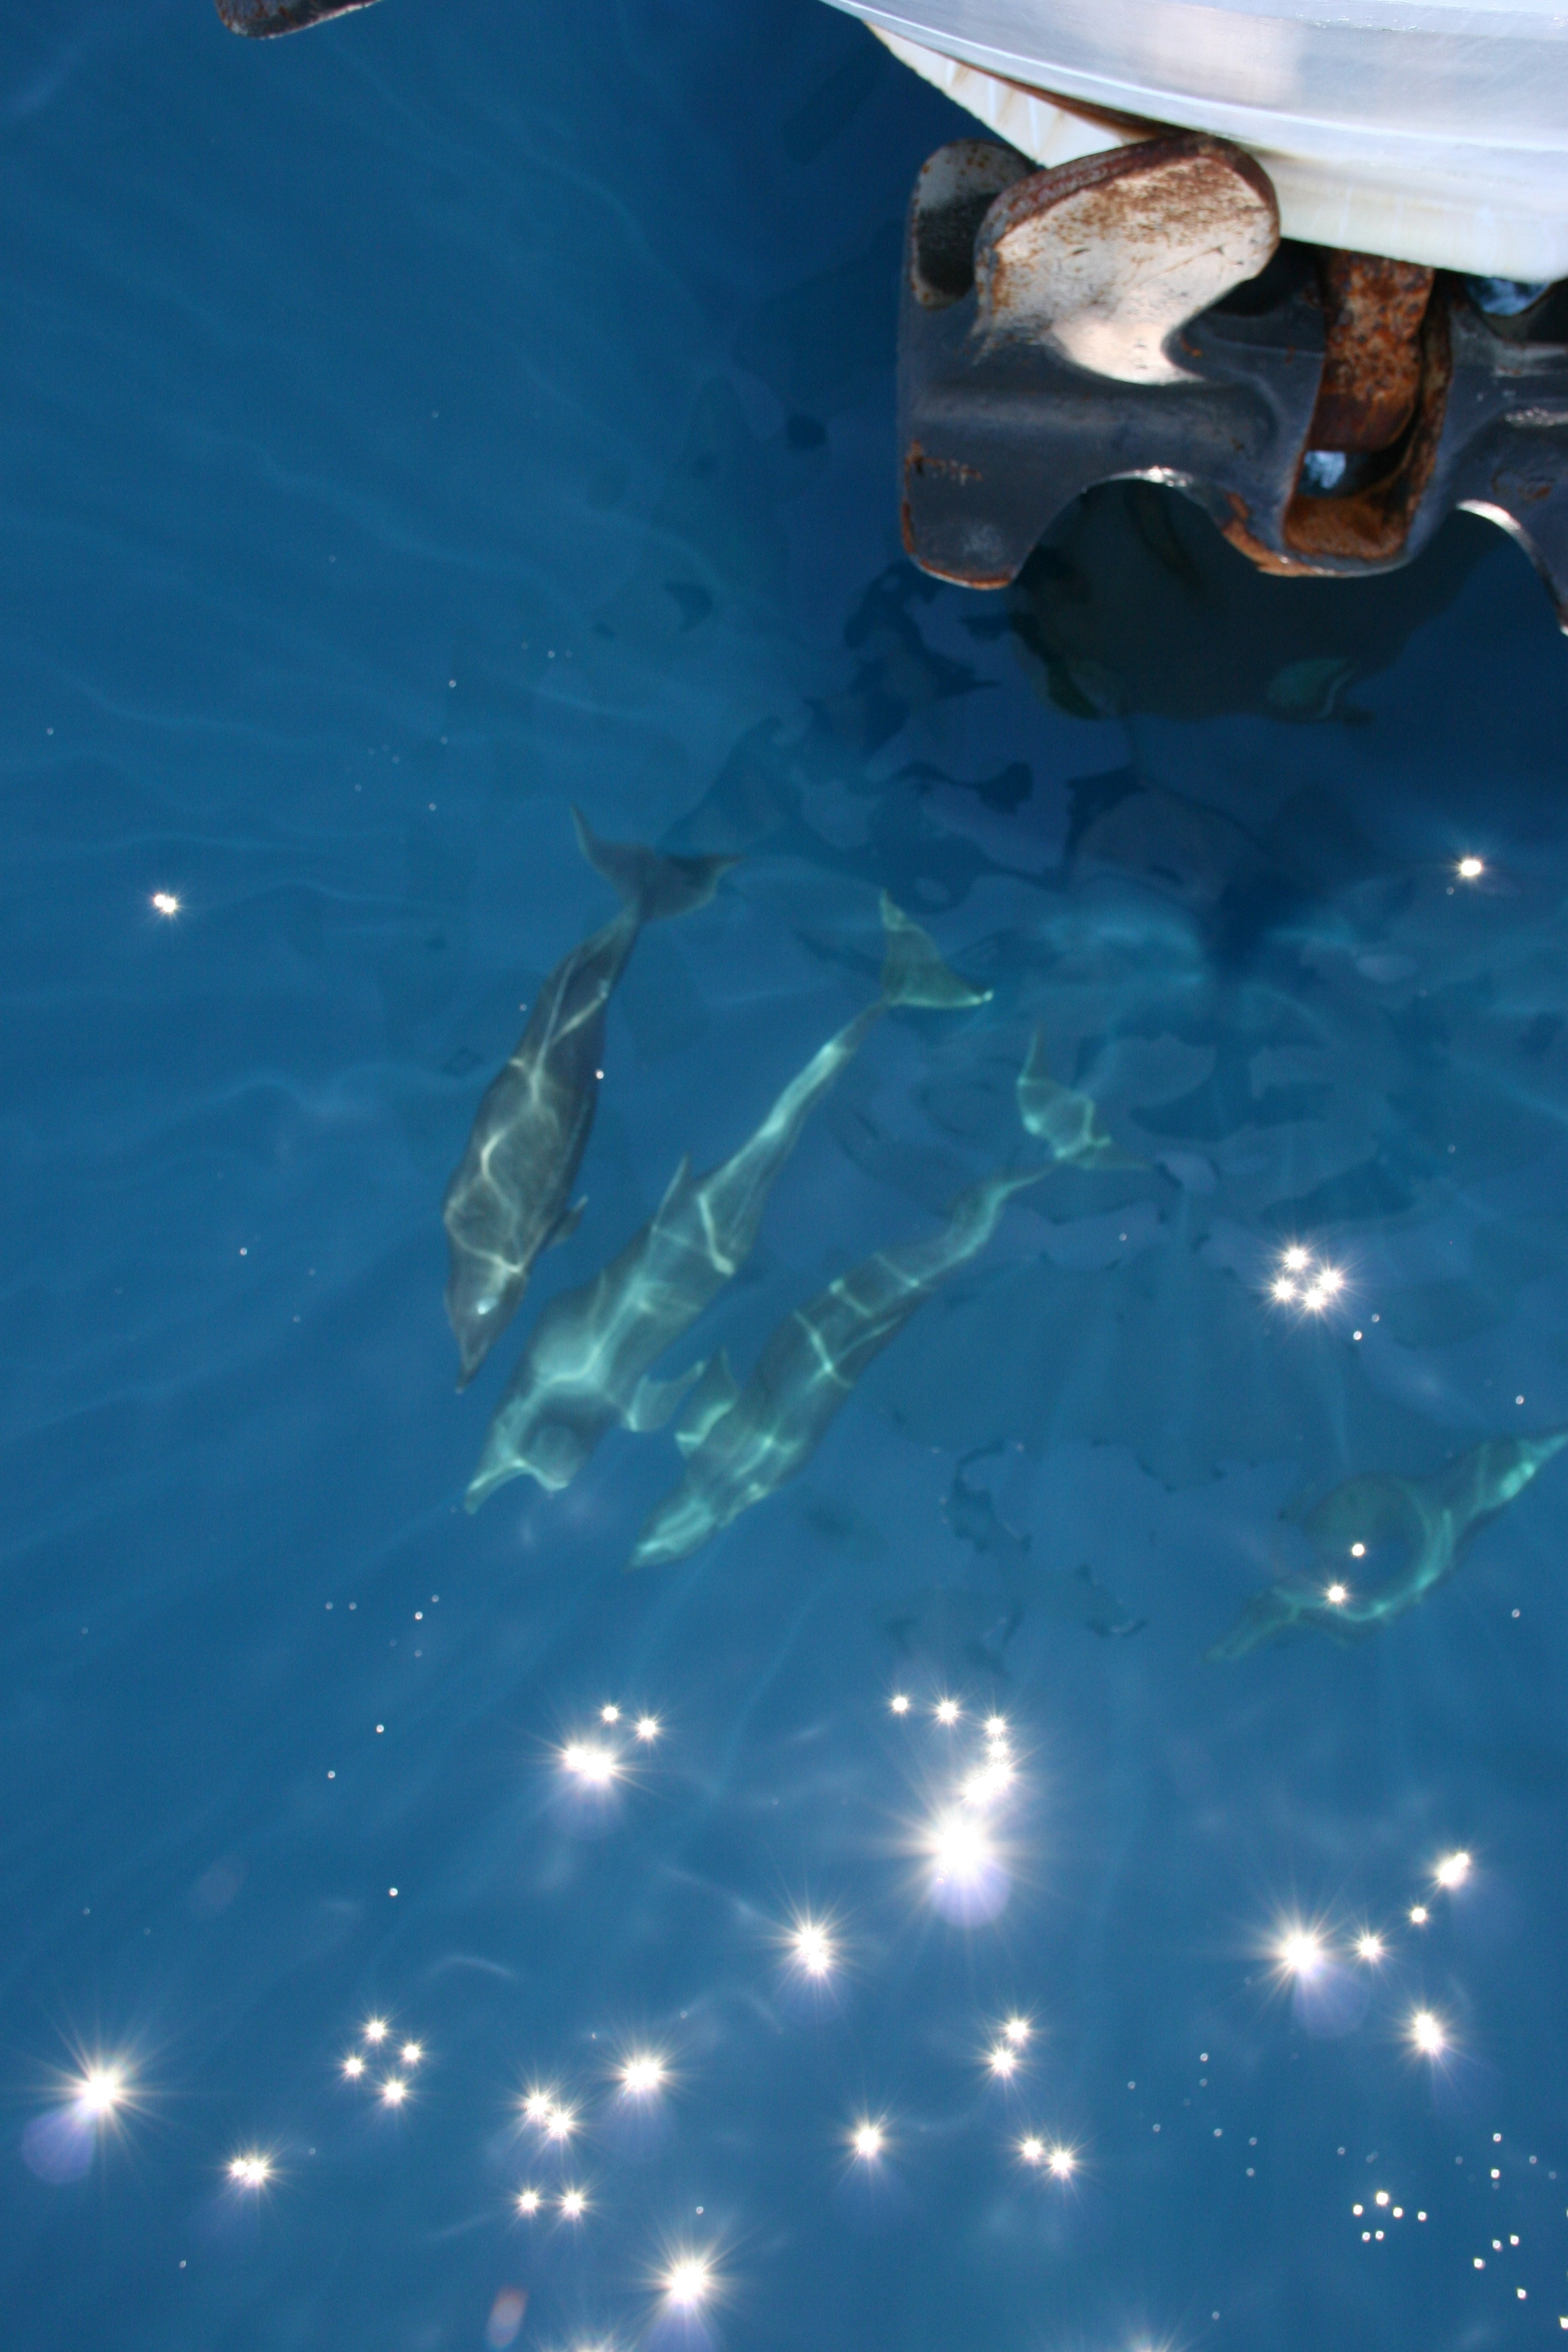dolphin: (462, 892, 992, 1491), (637, 1038, 1144, 1571), (434, 828, 744, 1379)
